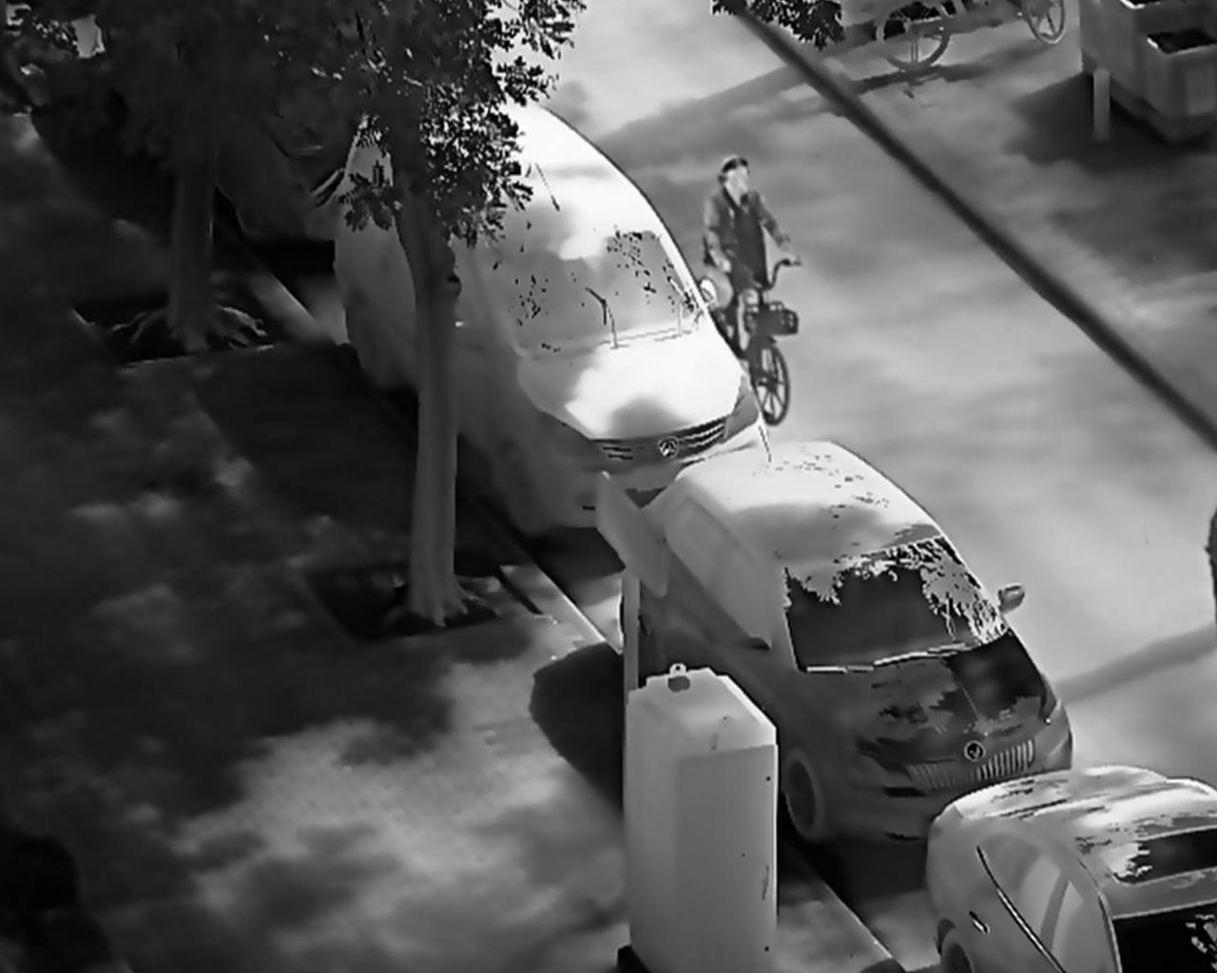person: (701, 149, 803, 361)
